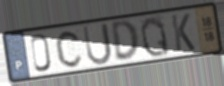0: (30, 33, 53, 74)
C: (55, 29, 85, 69)
D: (110, 19, 141, 63)
K: (169, 12, 197, 53)
Q: (139, 15, 172, 59)
U: (81, 22, 114, 67)
